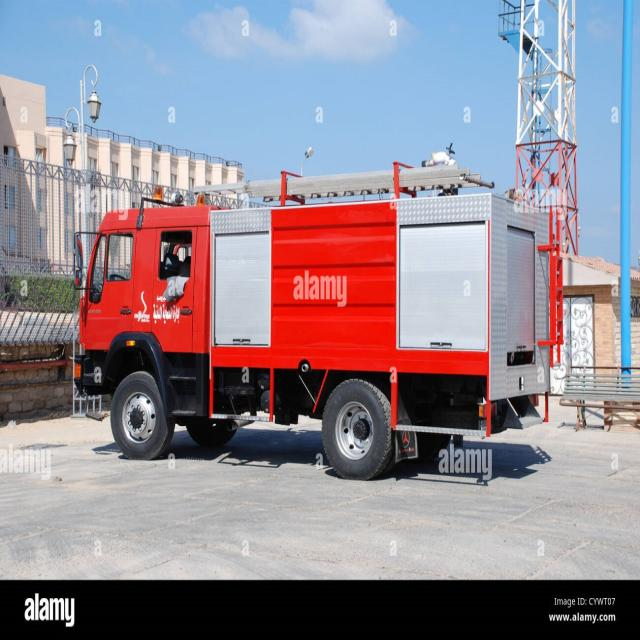Fire-truck: (71, 152, 555, 480)
